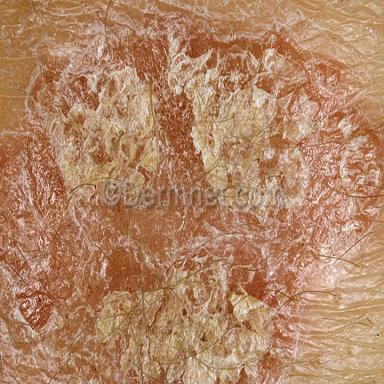Psoriasis: (1, 0, 383, 384)
